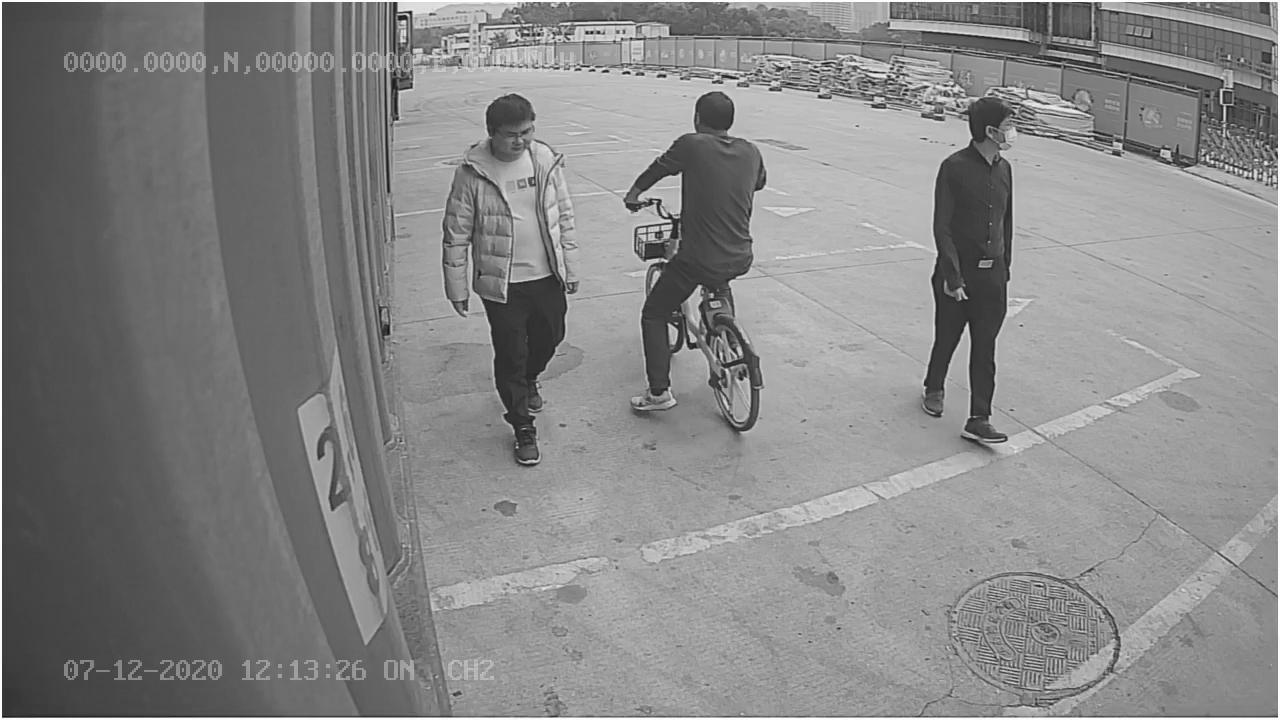person: (441, 94, 586, 468), (919, 91, 1026, 445)
